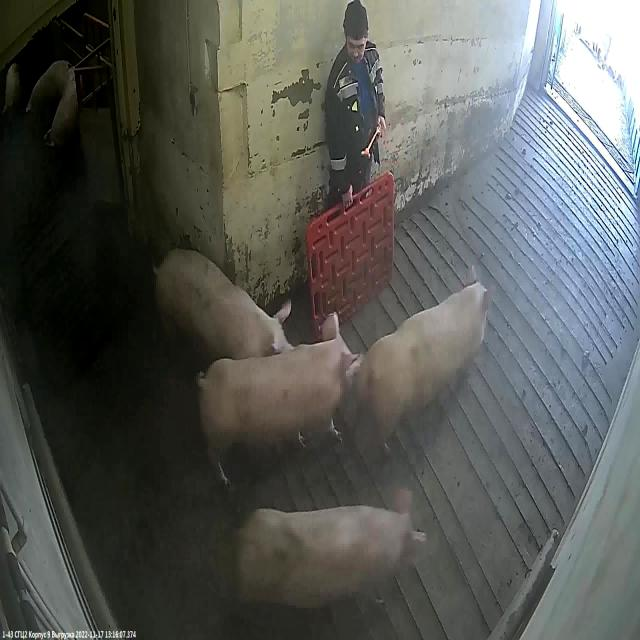pig: (341, 284, 490, 467), (197, 334, 364, 491), (235, 506, 422, 623), (154, 249, 293, 378), (28, 60, 72, 133), (43, 72, 79, 153), (0, 66, 22, 117)
